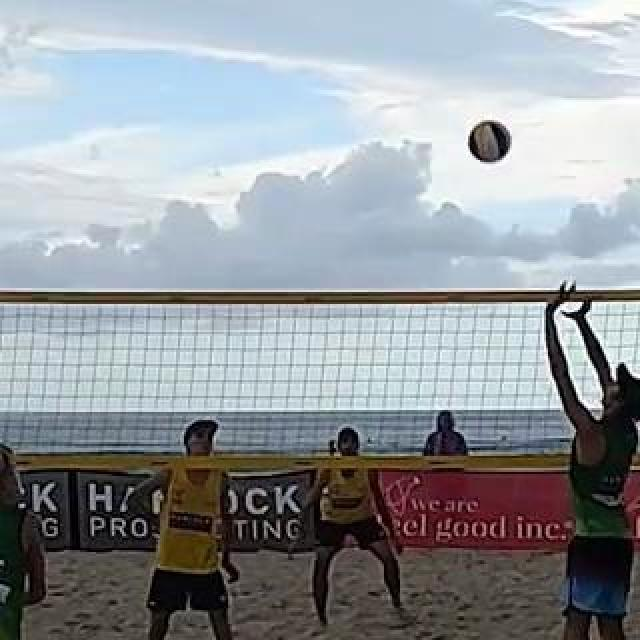volleyball: (469, 120, 511, 164)
